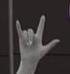back: (15, 14, 61, 60)
